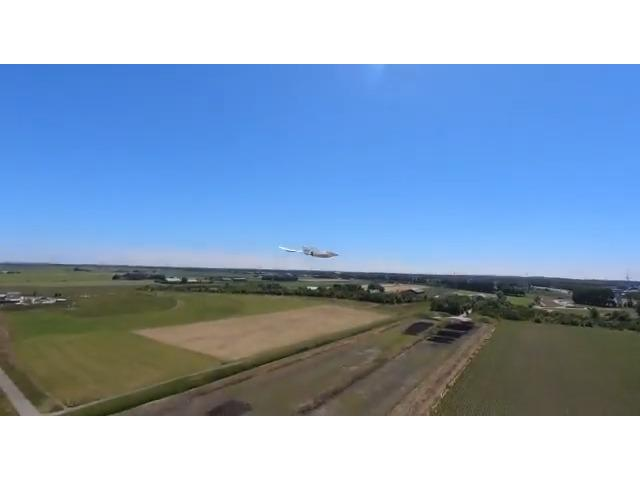Anti-Drone: (266, 220, 362, 288)
